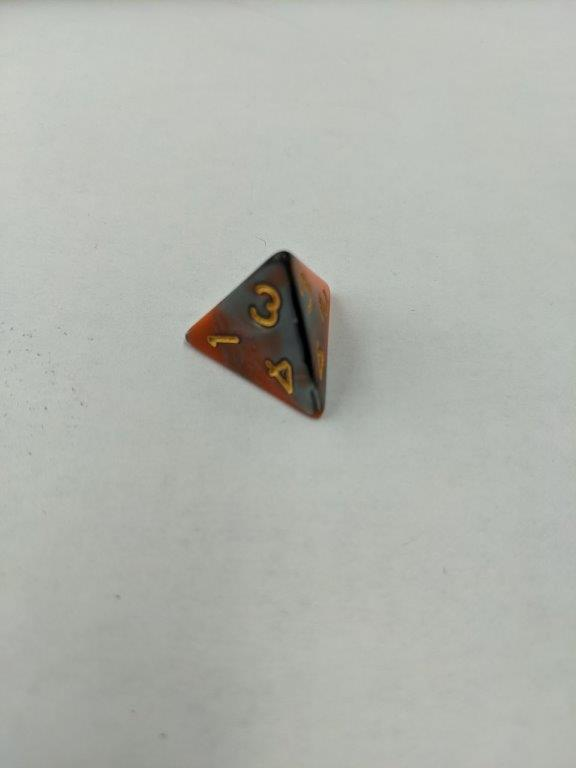d4-3: (178, 245, 339, 431)
